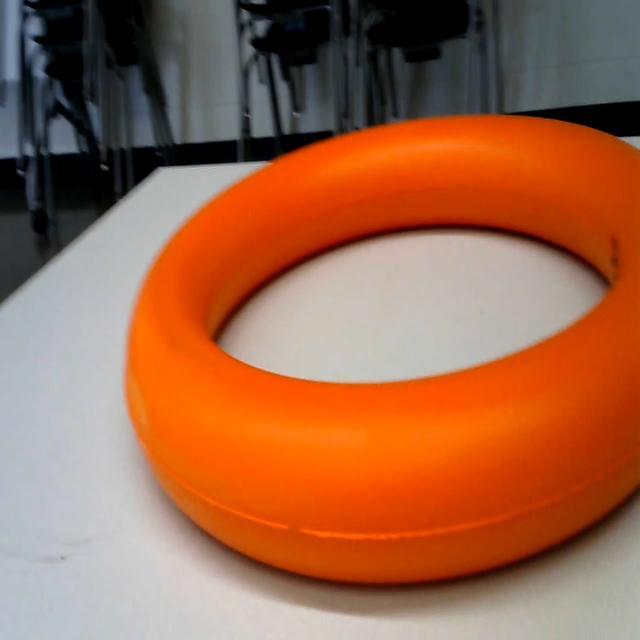note: (115, 81, 640, 609)
